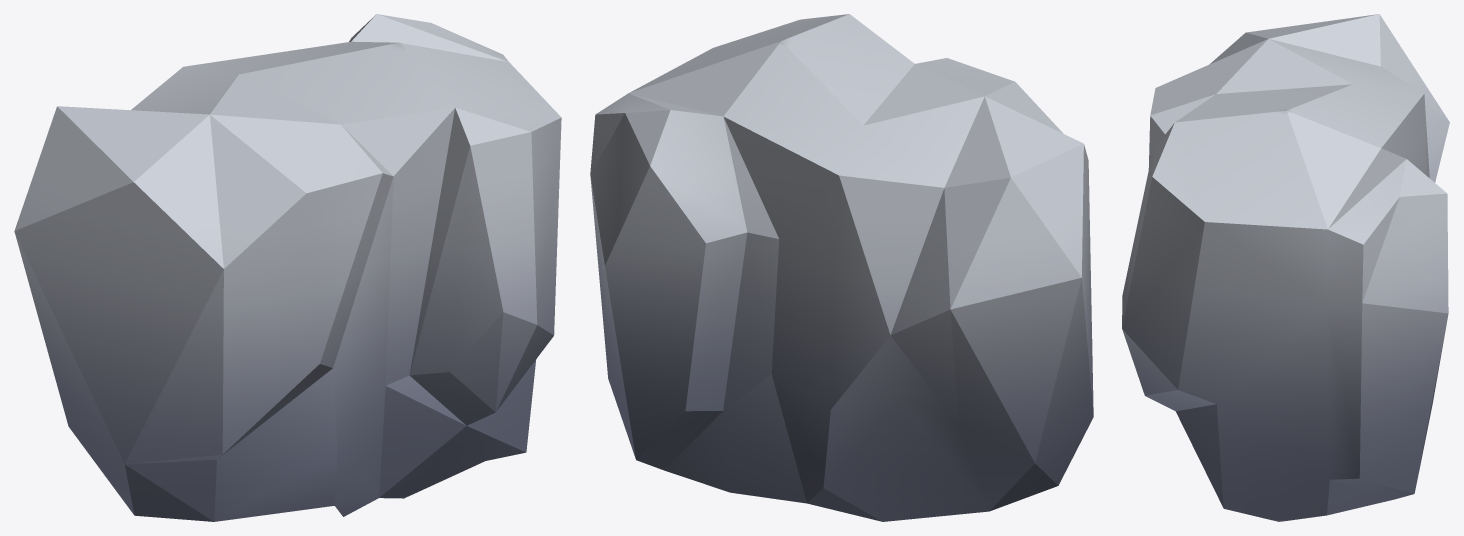
Rendered from Terrain_Stage2_Mountain_4.fbx.
3 renders of one model, left to right at view 1: azimuth 30°, elevation 25°; view 2: azimuth 150°, elevation 25°; view 3: azimuth 270°, elevation 25°, orthographic. The views are drawn at different scales.
Parts seen in each view (by area): view 1: terrain_mountain_423_LOD0 #1404384; view 2: terrain_mountain_423_LOD0 #1404384; view 3: terrain_mountain_423_LOD0 #1404384.
Boxes of the visible parts, <box> form: terrain_mountain_423_LOD0 #1404384: <box>14,14,561,521</box>; terrain_mountain_423_LOD0 #1404384: <box>590,14,1093,521</box>; terrain_mountain_423_LOD0 #1404384: <box>1122,14,1449,521</box>.
Size of the model in its own units: 794 by 633 by 510.
1 material, 1 textured.
